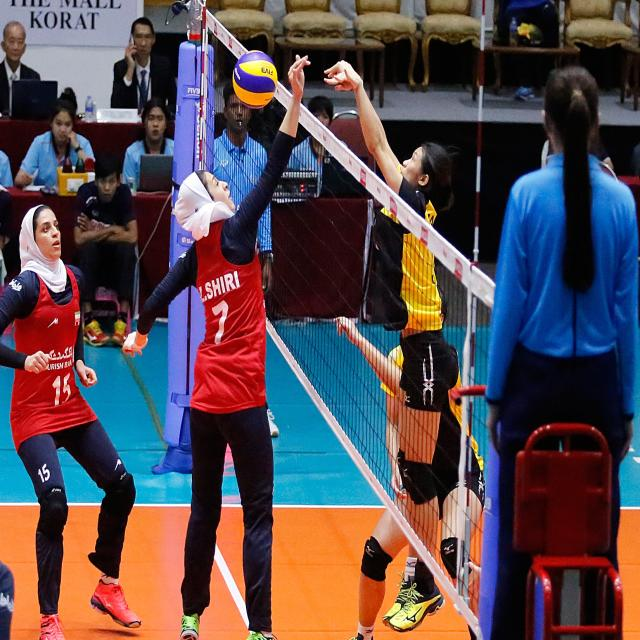body: (117, 51, 308, 640), (482, 57, 640, 640), (319, 56, 454, 634), (0, 194, 151, 639), (344, 299, 488, 640), (212, 79, 281, 438), (379, 284, 486, 504), (72, 152, 138, 346), (486, 0, 563, 99), (13, 100, 96, 188), (109, 15, 178, 110), (286, 94, 350, 196), (121, 96, 175, 193), (0, 20, 41, 119), (0, 145, 16, 301), (0, 556, 23, 639)
